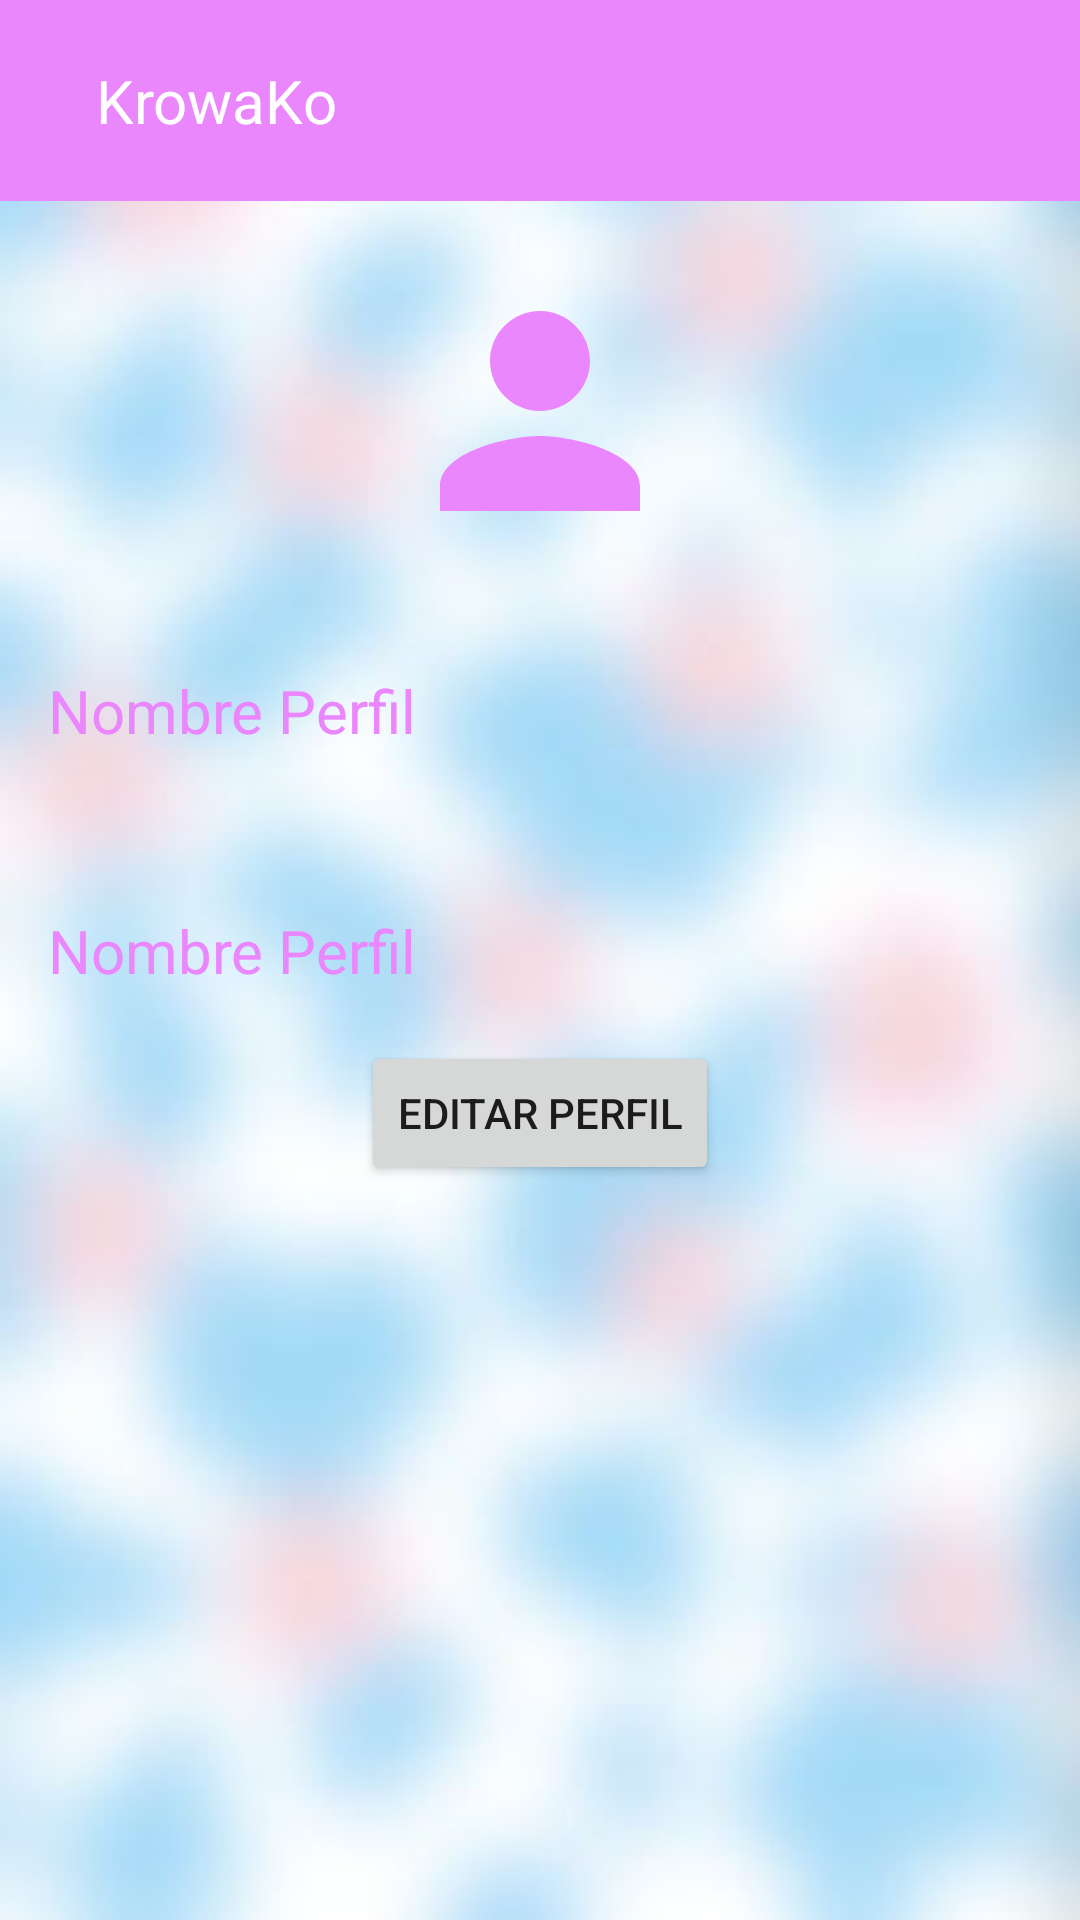

Where to tap for icons on this 1080px x 1920px app screen, as point (x, y):
person: point (552, 426)
